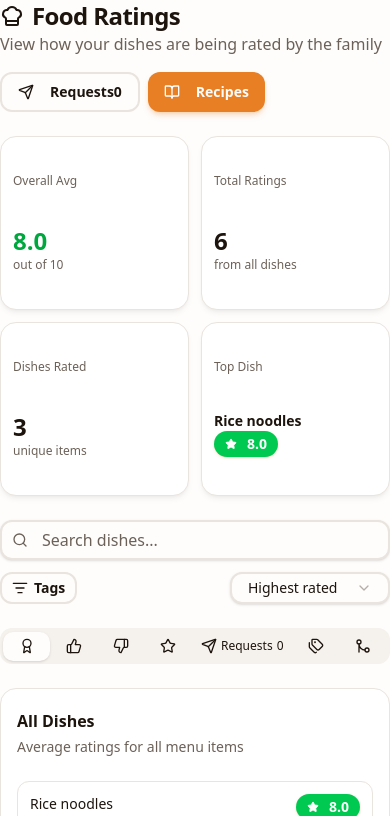
Test: food request submission keeps the current page › keeps the Insights request view after submitting
Press the mouse on the tab "Requests 0" at coordinates (242, 646), box [192,632,292,660]
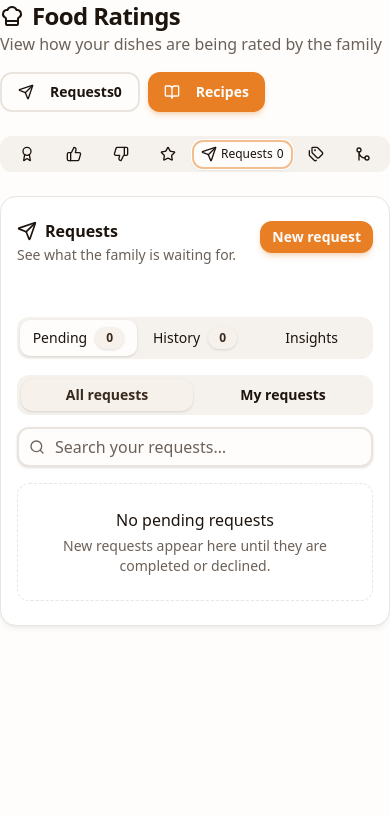
Press the mouse on the tab "Insights" at coordinates (312, 338), box [253,320,370,356]
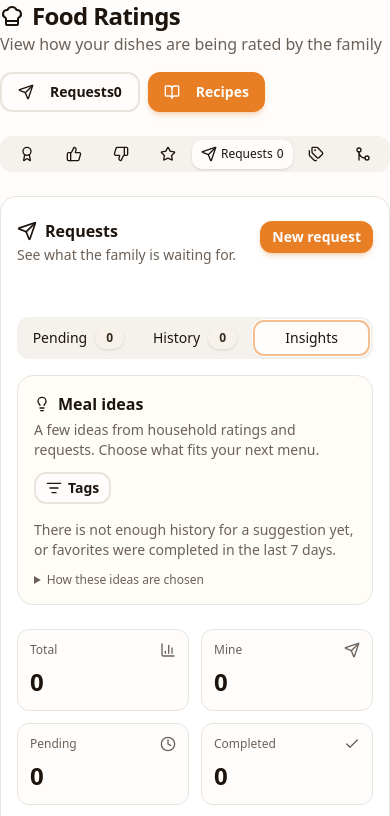
Click the button "New request" at coordinates (317, 237), box [260,221,373,253]
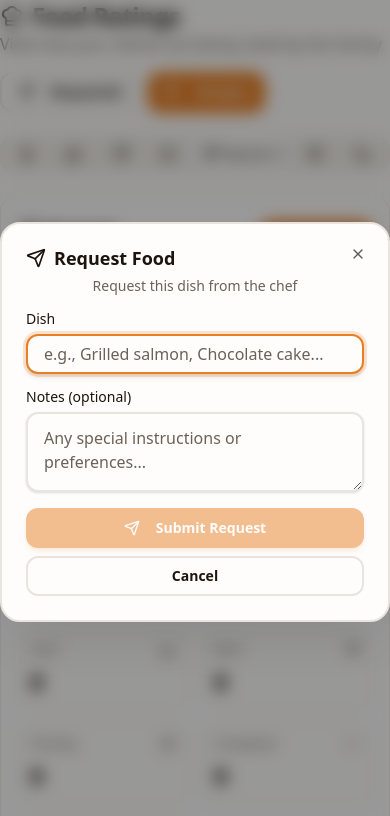
Type "Rice noodles" into the field labelled "Dish" at coordinates (195, 354), box [26,334,364,374]
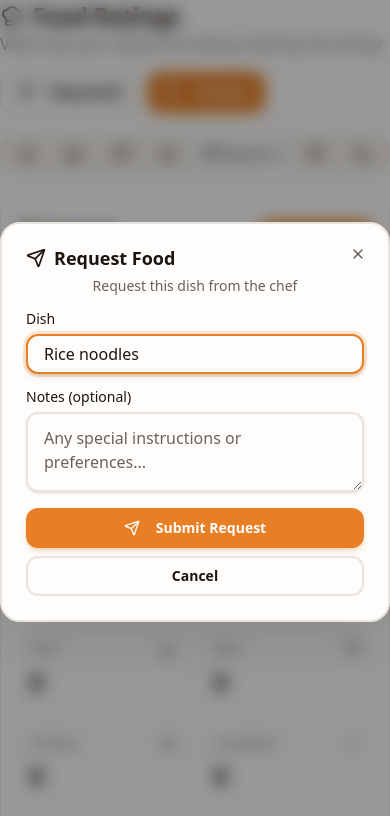
Click the button "Submit Request" at coordinates (195, 528), box [26,508,364,548]
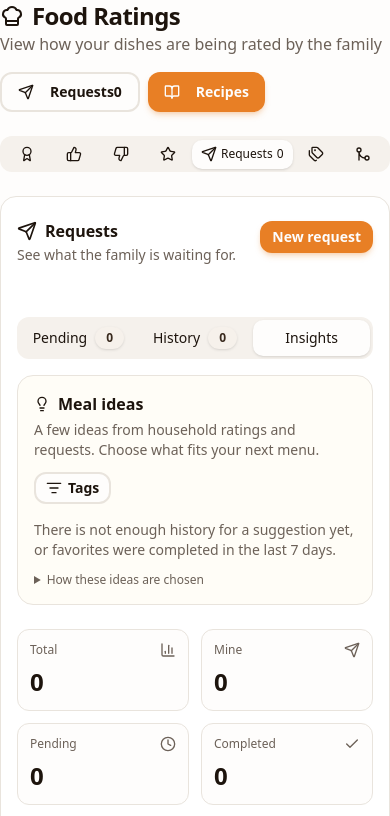
Now the dialog is gone
